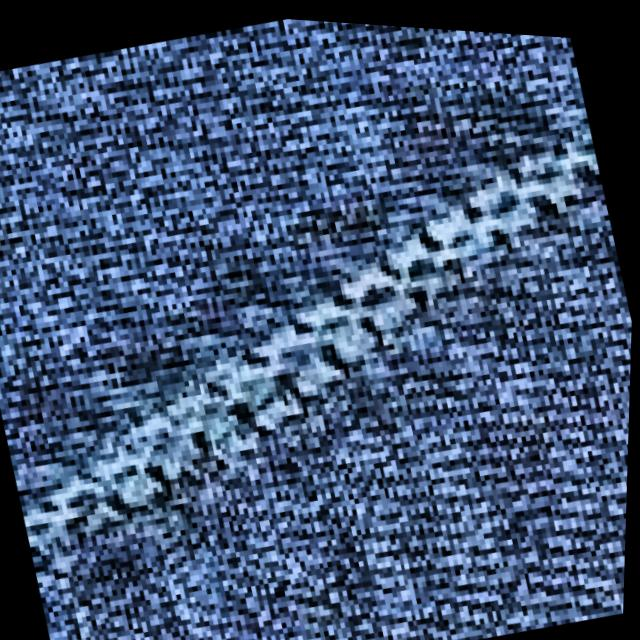seam: (0, 77, 638, 606)
